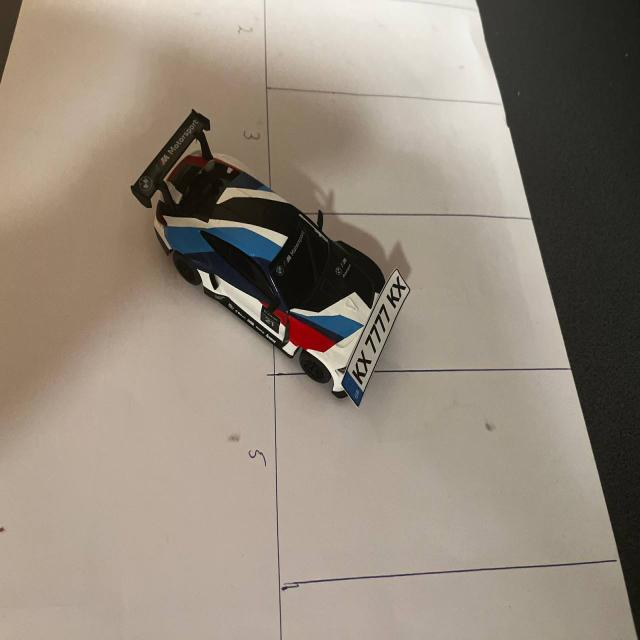KX 7777 KX: (337, 267, 415, 412)
